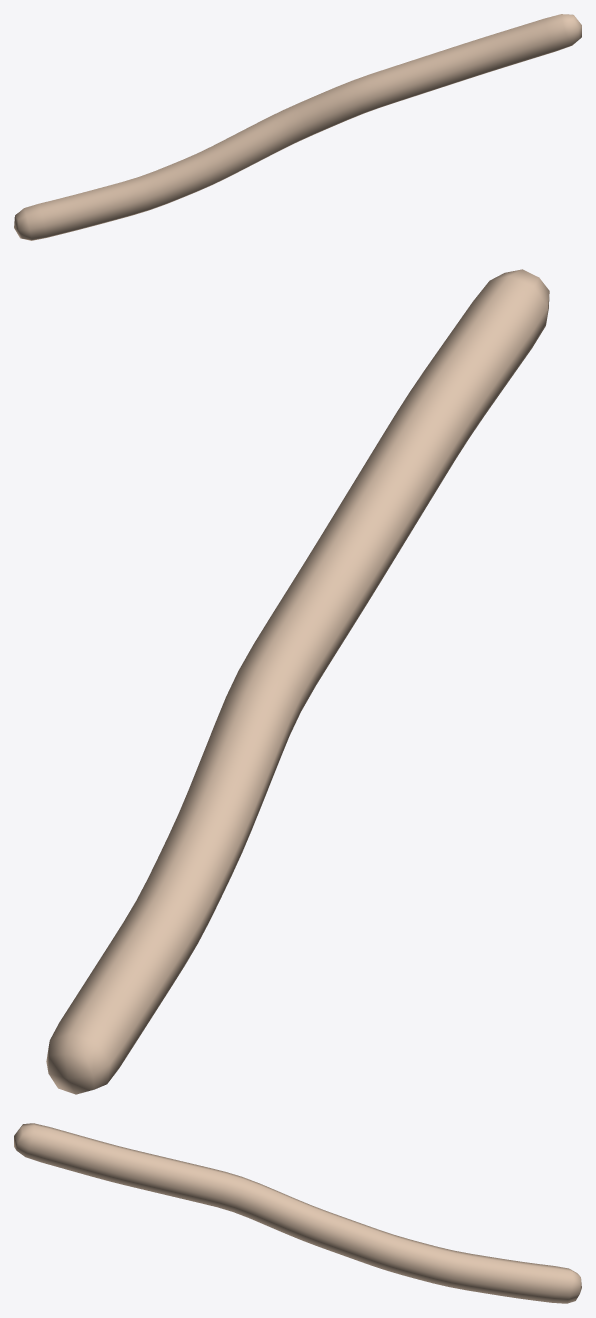
The picture shows the model from 3 angles, top to bottom: view 1: azimuth 90°, elevation 25°; view 2: azimuth 150°, elevation 25°; view 3: azimuth 270°, elevation 25°; orthographic projection. The views are drawn at different scales.
Parts seen in each view (by area): view 1: 左侧小指伸肌腱鞘; view 2: 左侧小指伸肌腱鞘; view 3: 左侧小指伸肌腱鞘.
Part boxes in pixels (x1,y1,x2,y2): 左侧小指伸肌腱鞘: (14, 14, 581, 240); 左侧小指伸肌腱鞘: (46, 269, 549, 1094); 左侧小指伸肌腱鞘: (14, 1123, 581, 1303).
Size of the model in its own units: 0.0178 by 0.0426 by 0.1092.
